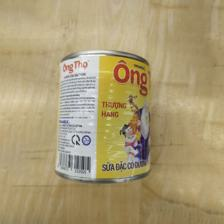Ong_tho: (54, 47, 152, 185)
